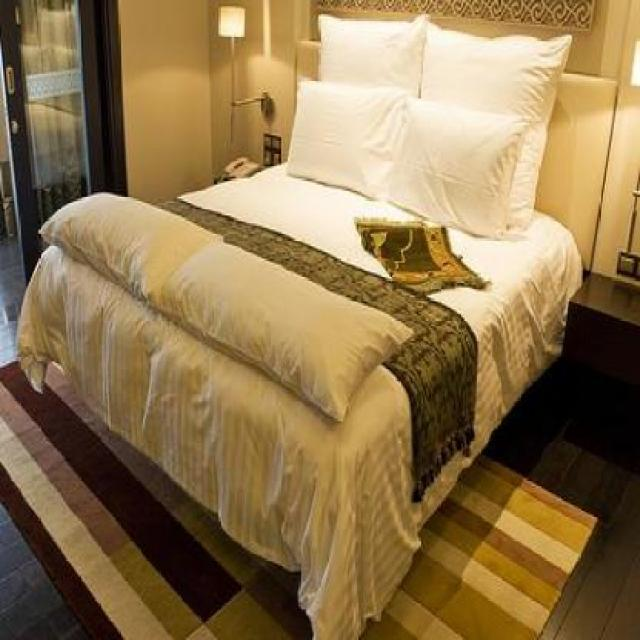Bed: (15, 9, 623, 640)
